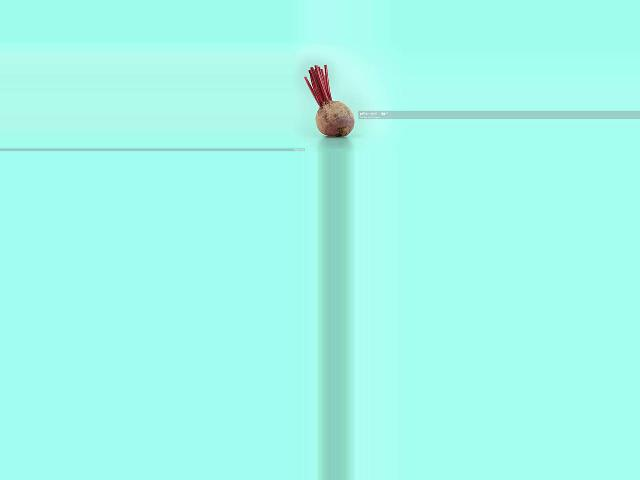beet: (305, 65, 355, 137)
